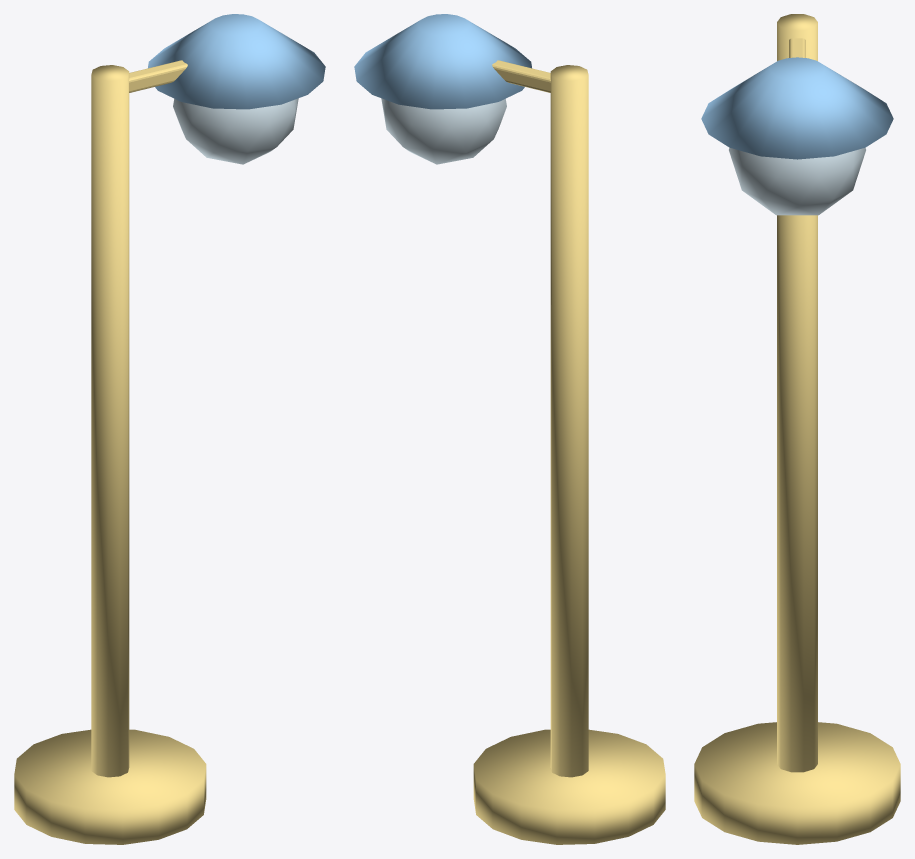
Rendered from calm_lamp.glb.
3 views of the same model, side by side, from view 1: azimuth 30°, elevation 25°; view 2: azimuth 150°, elevation 25°; view 3: azimuth 270°, elevation 25° (orthographic). The views are drawn at different scales.
Parts seen in each view (by area): view 1: calm_lamp; view 2: calm_lamp; view 3: calm_lamp.
Part boxes in pixels (x1,y1,x2,y2): calm_lamp: [14, 14, 325, 844]; calm_lamp: [354, 14, 665, 844]; calm_lamp: [694, 14, 900, 844].
Bounding box in the file's own units: 1.03 × 2.56 × 0.6.
